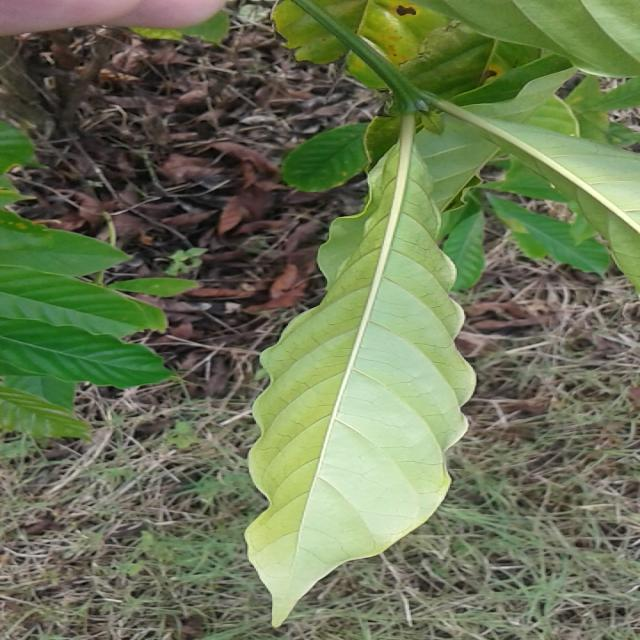Sanas: (244, 105, 497, 630)
